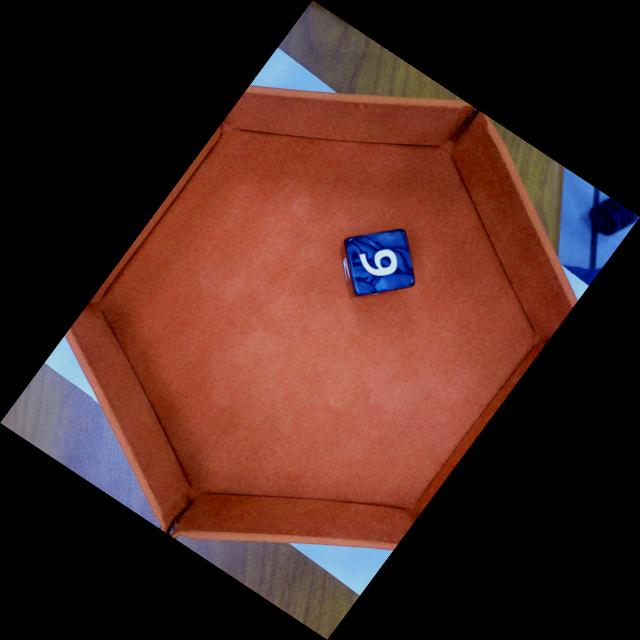dice: (341, 226, 418, 297)
